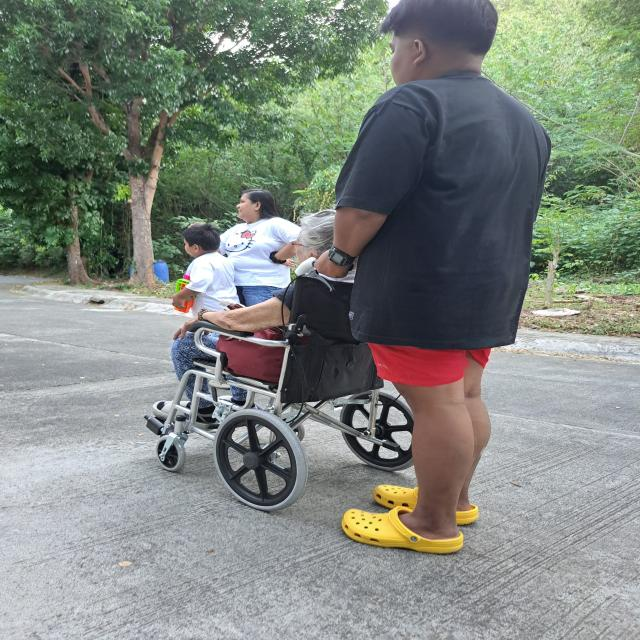wheelchairs: (137, 262, 425, 510)
